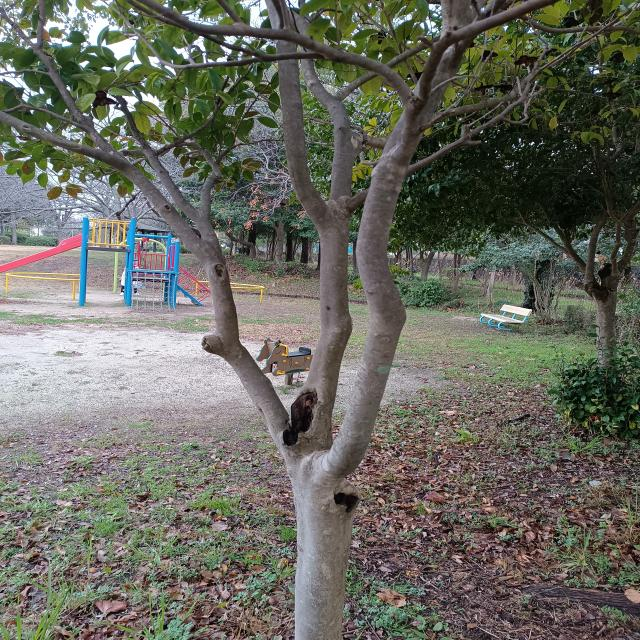Branch: (328, 1, 474, 476), (199, 215, 292, 463), (292, 200, 352, 446), (121, 156, 201, 262)
Twig: (139, 0, 415, 107), (267, 1, 328, 218), (406, 78, 533, 178), (0, 0, 92, 128), (117, 94, 199, 224), (300, 60, 352, 199), (4, 105, 121, 156), (340, 43, 428, 101), (438, 70, 537, 119), (450, 0, 556, 43), (187, 143, 222, 220), (346, 191, 364, 211), (0, 69, 50, 76)
